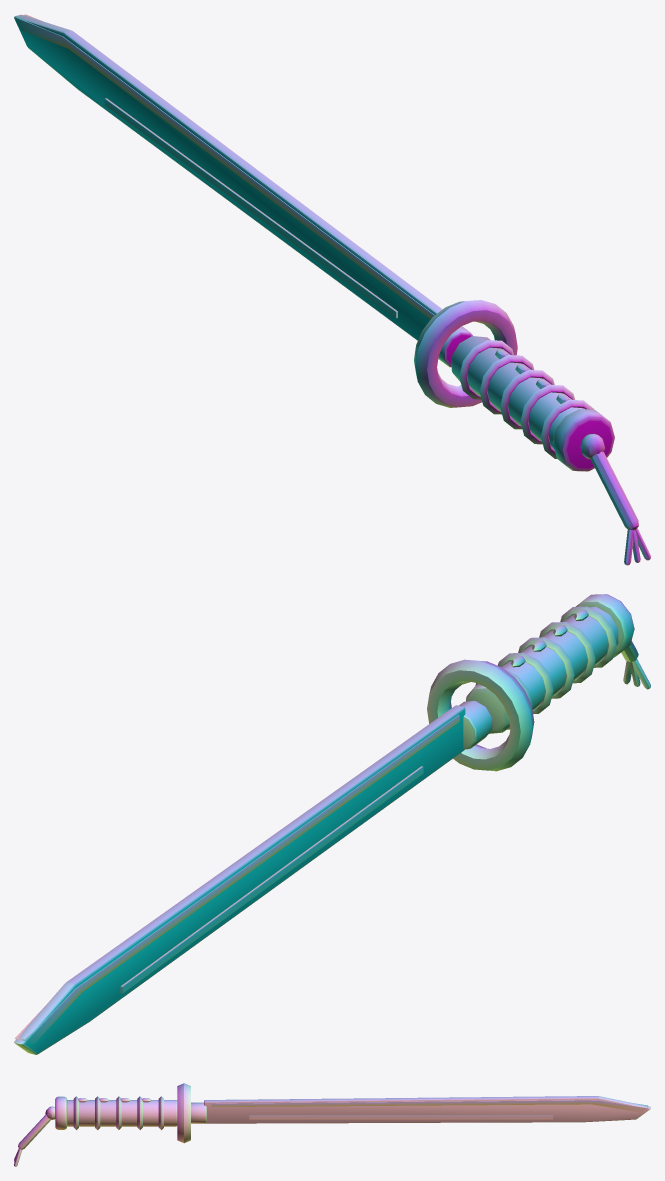
The model's file is wpn_katana.glb.
The picture shows the model from 3 angles, top to bottom: view 1: azimuth 30°, elevation 25°; view 2: azimuth 150°, elevation 25°; view 3: azimuth 270°, elevation 25°; orthographic projection. The views are drawn at different scales.
Parts seen in each view (by area): view 1: wpn_katana_mesh; view 2: wpn_katana_mesh; view 3: wpn_katana_mesh.
Boxes of the visible parts, x1,y1,x2,y2 form: wpn_katana_mesh: [14, 14, 650, 565]; wpn_katana_mesh: [14, 594, 650, 1054]; wpn_katana_mesh: [14, 1083, 650, 1166].
Bounding box in the file's own units: 0.04 × 0.0551 × 0.4198.
